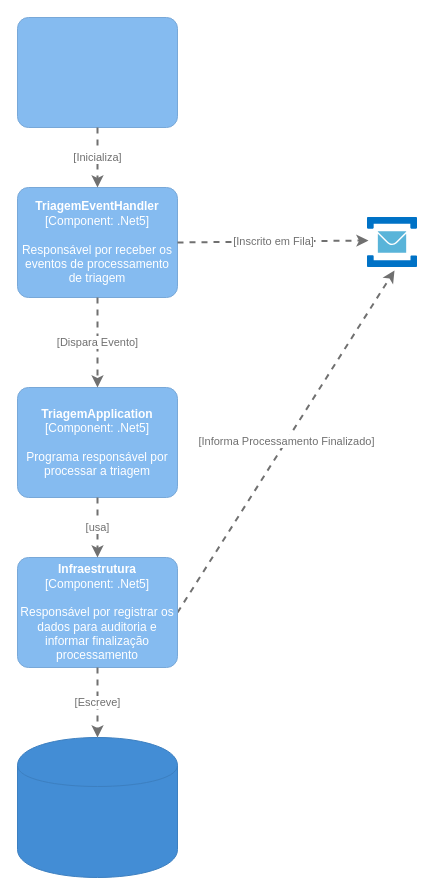
Image size: 435x895. Some labels were removed from this diagram. Each missing label, with the box of its shape:
Database [Container: SQLServer] Guarda registros auditoria: (16, 736, 178, 878)
main [Component: .Net5] Programa principal: (16, 16, 178, 128)
